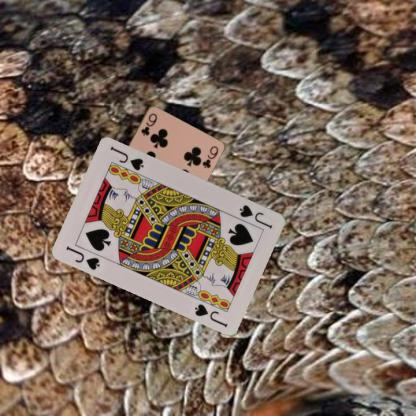9c: (138, 110, 158, 136)
Js: (64, 243, 102, 272), (237, 202, 274, 231)
